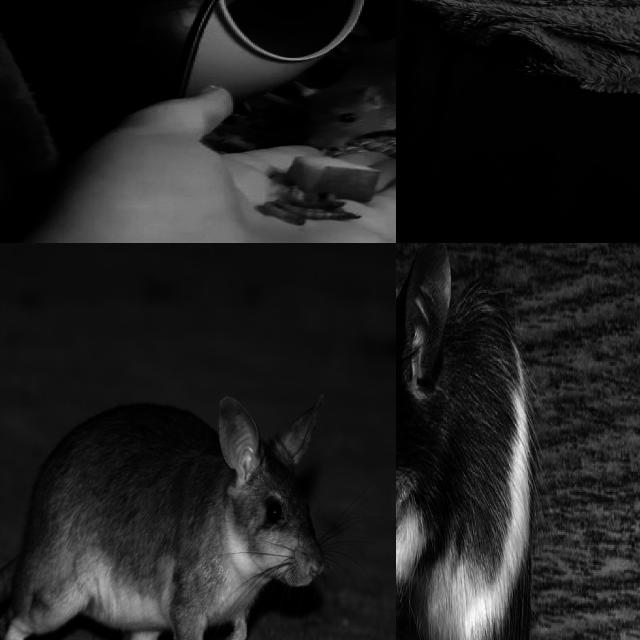rat: (0, 393, 332, 640), (396, 243, 535, 640), (291, 15, 396, 156)
